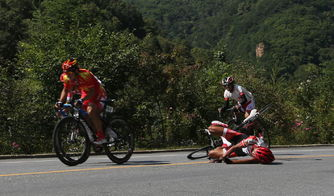fall: (189, 113, 279, 167)
